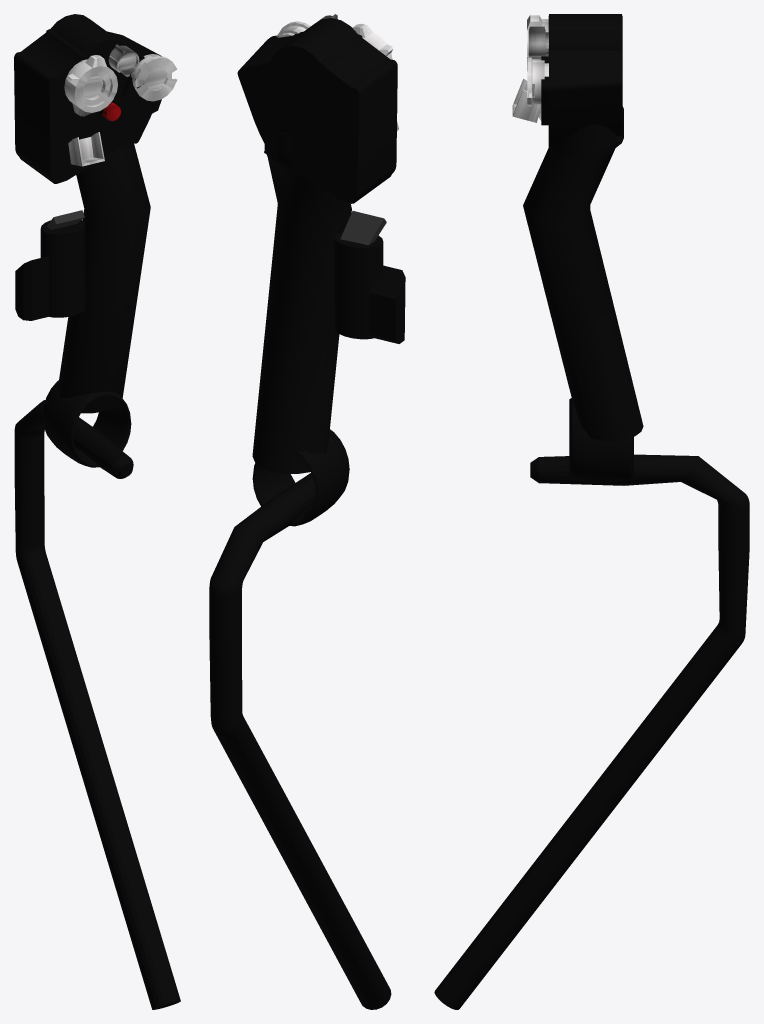
File: 컨트롤러 1(05-28).FBX
3 views of the same model, side by side, from view 1: azimuth 30°, elevation 25°; view 2: azimuth 150°, elevation 25°; view 3: azimuth 270°, elevation 25° (orthographic). The views are drawn at different scales.
Visible parts, largest first — view 1: Cylinder003; view 2: Cylinder003; view 3: Cylinder003.
Boxes of the visible parts, bbox=[...] form: Cylinder003: bbox=[14, 14, 180, 1009]; Cylinder003: bbox=[209, 14, 405, 1009]; Cylinder003: bbox=[434, 14, 749, 1009].
Bounding box in the file's own units: 26.67 × 175 × 50.83.
